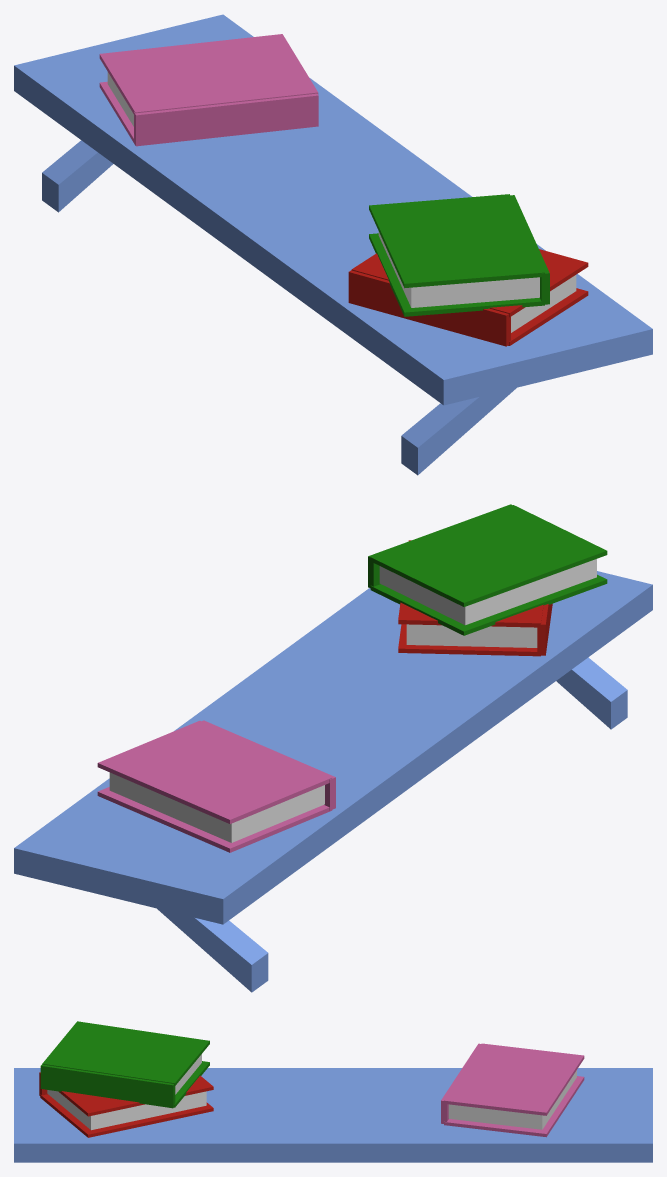
File: bookshelf.fbx
The picture shows the model from 3 angles, top to bottom: view 1: azimuth 30°, elevation 25°; view 2: azimuth 150°, elevation 25°; view 3: azimuth 270°, elevation 25°; orthographic projection. The views are drawn at different scales.
Visible parts, largest first — view 1: Cube.009; view 2: Cube.009; view 3: Cube.009.
Boxes of the visible parts, x1,y1,x2,y2 form: Cube.009: [14, 14, 652, 475]; Cube.009: [14, 504, 652, 992]; Cube.009: [14, 1021, 652, 1162].
Bounding box in the file's own units: 200 × 163 × 712.
